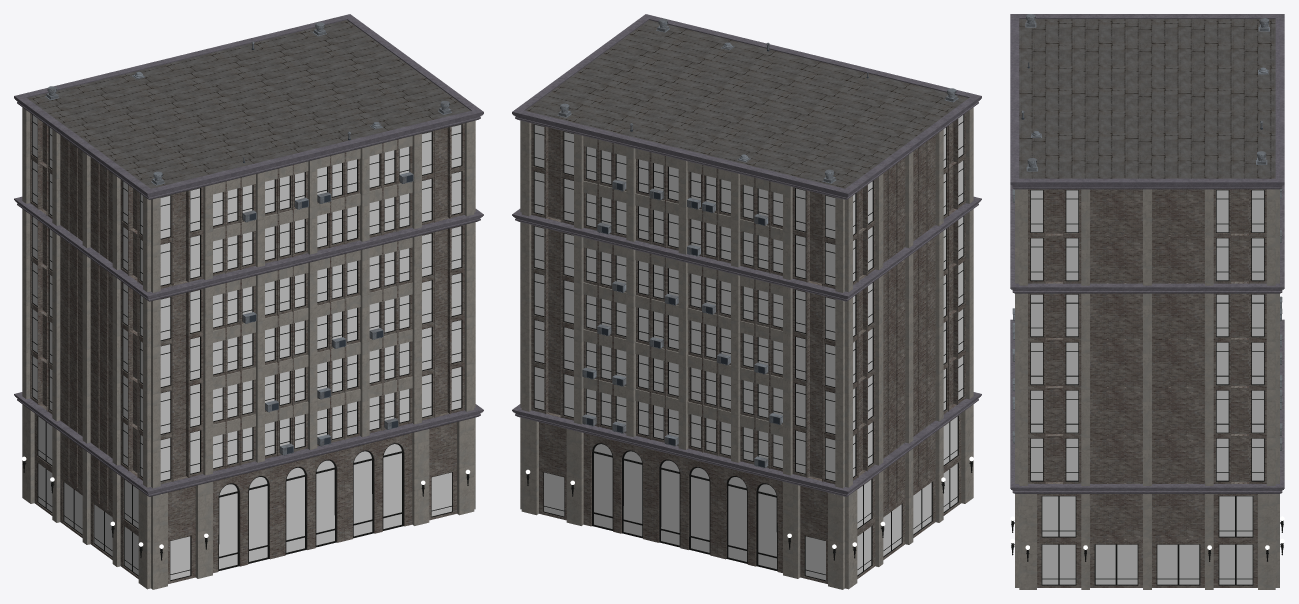
The model's file is Building_31.fbx.
3 renders of one model, left to right at view 1: azimuth 30°, elevation 25°; view 2: azimuth 150°, elevation 25°; view 3: azimuth 270°, elevation 25°, orthographic. The views are drawn at different scales.
Visible parts, largest first — view 1: Building_31_LOD0; view 2: Building_31_LOD0; view 3: Building_31_LOD0.
Part boxes in pixels (bbox=[...]): Building_31_LOD0: bbox=[14, 14, 483, 589]; Building_31_LOD0: bbox=[512, 14, 981, 589]; Building_31_LOD0: bbox=[1010, 14, 1284, 589].
Size of what is drawn, in the model's own units: 2747 by 3182 by 1892.
